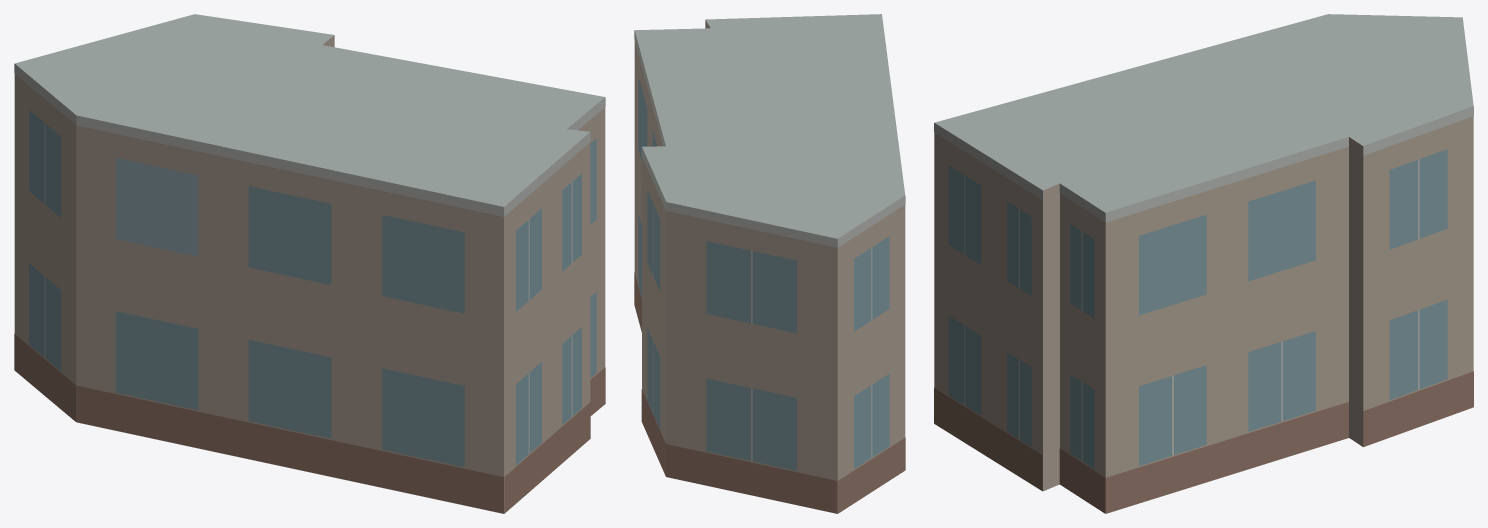
Rendered from survey-upis-32492181.glb.
The picture shows the model from 3 angles, left to right: view 1: azimuth 30°, elevation 25°; view 2: azimuth 150°, elevation 25°; view 3: azimuth 270°, elevation 25°; orthographic projection. The views are drawn at different scales.
Parts seen in each view (by area): view 1: survey-upis-32492181.tmp; view 2: survey-upis-32492181.tmp; view 3: survey-upis-32492181.tmp.
Boxes of the visible parts, bbox=[...] form: survey-upis-32492181.tmp: bbox=[14, 14, 605, 513]; survey-upis-32492181.tmp: bbox=[634, 14, 905, 513]; survey-upis-32492181.tmp: bbox=[934, 14, 1473, 513].
Size of the model in its own units: 10.64 by 7.5 by 12.2.
